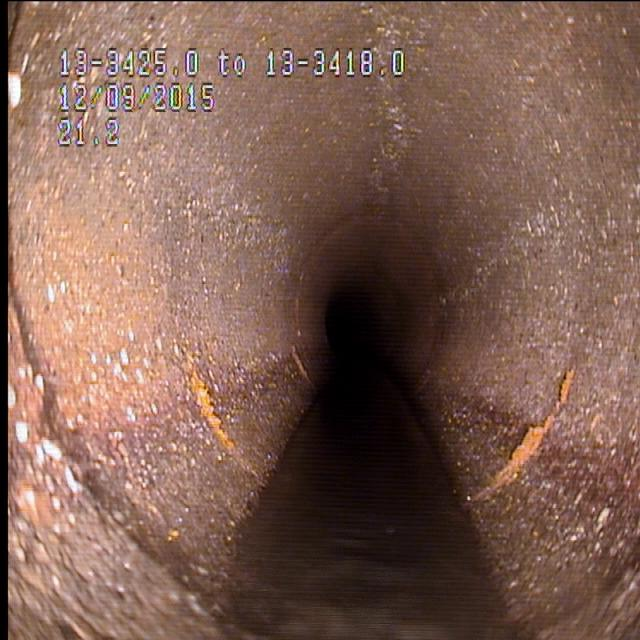Fracture: (446, 358, 585, 498)
